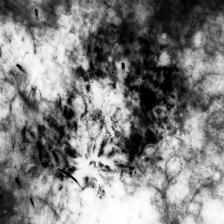Benign Marking or Mole: (25, 30, 185, 180)
